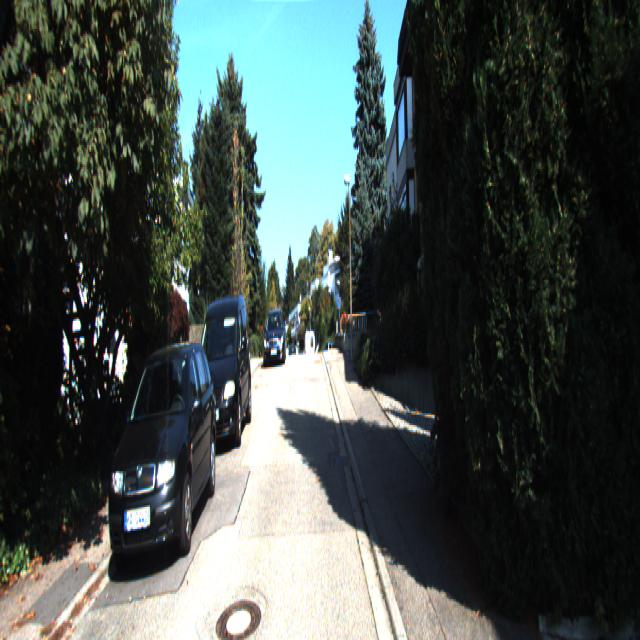Car: (107, 339, 218, 574), (190, 288, 253, 453), (263, 307, 287, 367)
